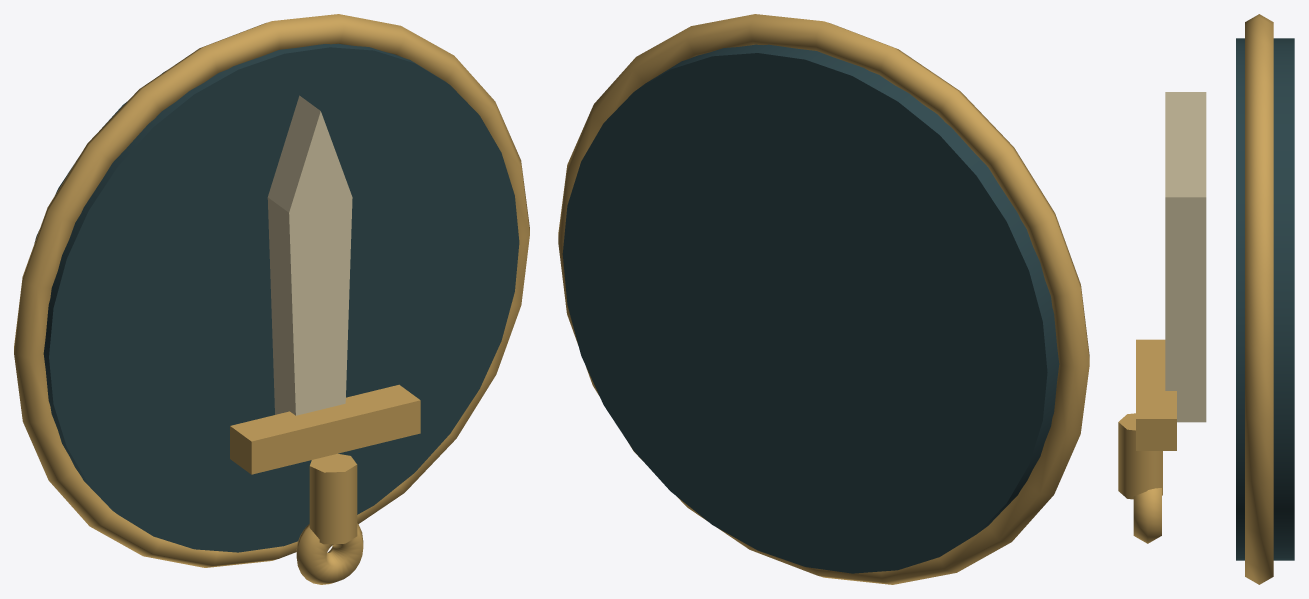
The model's file is attack.fbx.
3 renders of one model, left to right at view 1: azimuth 30°, elevation 25°; view 2: azimuth 150°, elevation 25°; view 3: azimuth 270°, elevation 25°, orthographic. The views are drawn at different scales.
Parts seen in each view (by area): view 1: attack; view 2: attack; view 3: attack.
Boxes of the visible parts, box(x1,y1,x2,y2) form: attack: box(14, 14, 529, 584); attack: box(558, 14, 1089, 584); attack: box(1118, 14, 1294, 584).
Bounding box in the file's own units: 0.976 × 0.976 × 0.3.
